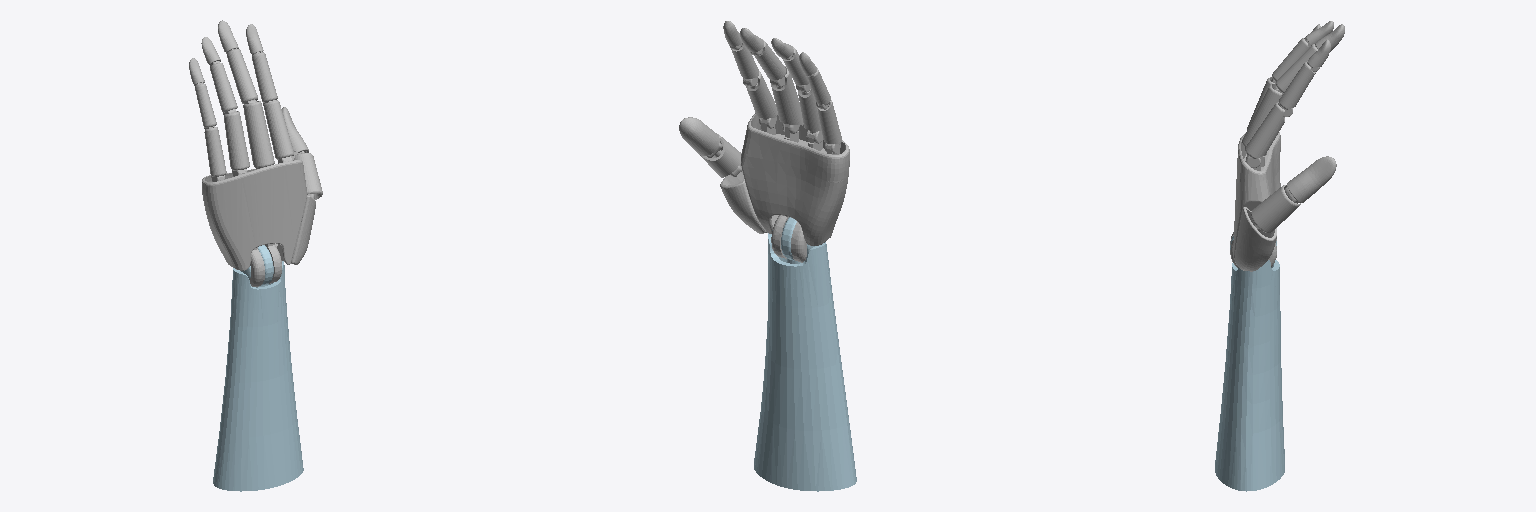
--- Facts derived from the render (not from the file) ---
Views: 3 orthographic renders of the robot side by side, from view 1: azimuth 30°, elevation 25°; view 2: azimuth 150°, elevation 25°; view 3: azimuth 270°, elevation 25°.
Model handbase with 17 links and 16 joints (14 continuous, 2 fixed), rooted at world, posed every joint at zero.
Links seen in each view (by area): view 1: base_link, hands, z1, w1, s1, z2, x1, w2, s2, m1, x2; view 2: base_link, hands, z1, m2, s1, m1, w1, x1, z2, s2; view 3: base_link, hands, m2, m1, s1, s2, z1, z2.
Link boxes in pixels (box(x1,y1,x2,y2)): base_link: box(213, 245, 303, 491); hands: box(202, 157, 315, 286); z1: box(243, 100, 274, 168); w1: box(224, 109, 249, 176); s1: box(264, 100, 293, 163); z2: box(227, 49, 257, 103); x1: box(204, 127, 226, 181); w2: box(210, 61, 237, 114); s2: box(252, 52, 277, 105); m1: box(293, 153, 322, 199); x2: box(195, 83, 216, 129); base_link: box(754, 217, 856, 491); hands: box(720, 113, 849, 262); z1: box(771, 66, 803, 133); m2: box(679, 117, 722, 157); s1: box(745, 71, 777, 128); m1: box(700, 134, 741, 177); w1: box(798, 85, 822, 143); x1: box(817, 100, 841, 153); z2: box(752, 39, 785, 86); s2: box(731, 43, 758, 86); base_link: box(1215, 236, 1284, 491); hands: box(1230, 132, 1280, 271); m2: box(1284, 156, 1336, 203); m1: box(1251, 185, 1300, 232); s1: box(1245, 102, 1284, 167); s2: box(1279, 61, 1315, 116); z1: box(1242, 84, 1281, 146); z2: box(1273, 44, 1317, 97).
Size in the robot's own frame: 0.05 by 0.0445 by 0.1688 metres.
Meshes: 16 distinct files referenced, 16 mesh visuals loaded (16 binary STL).

URDF robot description (handbase):
<?xml version="1.0"?>
<robot
  name="handbase">
<link name="world"/>
  <link
    name="base_link">
    <inertial>
      <origin
        xyz="-0.000799962641470192 -0.000504081590186804 0.0401253166777664"
        rpy="0 0 0" />
      <mass
        value="0.0146454969908164" />
      <inertia
        ixx="9.82327156254974E-06"
        ixy="-3.59727314482683E-09"
        ixz="-1.5220107553225E-07"
        iyy="1.01860202299042E-05"
        iyz="-1.82119548587631E-07"
        izz="1.31533761566139E-06" />
    </inertial>
    <visual>
      <origin
        xyz="0 0 0"
        rpy="0 0 0" />
      <geometry>
        <mesh
          filename="package://handbase/meshes/base_link.STL" />
      </geometry>
      <material
        name="">
        <color
          rgba="0.72156862745098 0.835294117647059 0.886274509803922 1" />
      </material>
    </visual>
    <collision>
      <origin
        xyz="0 0 0"
        rpy="0 0 0" />
      <geometry>
        <mesh
          filename="package://handbase/meshes/base_link.STL" />
      </geometry>
    </collision>
  </link>
<joint name="fixed" type="fixed">
    <parent link="world"/>
    <child link="base_link"/>
  </joint>
  <link
    name="hands">
    <inertial>
      <origin
        xyz="0.000309917534445799 0.017422524571406 0.000982941479633531"
        rpy="0 0 0" />
      <mass
        value="0.00691356184373185" />
      <inertia
        ixx="1.11404015320748E-06"
        ixy="-1.13700860874004E-07"
        ixz="-3.76181638218656E-08"
        iyy="8.08911806454596E-07"
        iyz="1.9480037239203E-08"
        izz="1.69003337579249E-06" />
    </inertial>
    <visual>
      <origin
        xyz="0 0 0"
        rpy="0 0 0" />
      <geometry>
        <mesh
          filename="package://handbase/meshes/hands.STL" />
      </geometry>
      <material
        name="">
        <color
          rgba="0.752941176470588 0.752941176470588 0.752941176470588 1" />
      </material>
    </visual>
    <collision>
      <origin
        xyz="0 0 0"
        rpy="0 0 0" />
      <geometry>
        <mesh
          filename="package://handbase/meshes/hands.STL" />
      </geometry>
    </collision>
  </link>
  <joint
    name="joint"
    type="fixed">
    <origin
      xyz="0.002 -0.00099904 0.084029"
      rpy="1.6145 5.6601E-16 -3.1416" />
    <parent
      link="base_link" />
    <child
      link="hands" />
    <axis
      xyz="0 0 0" />
  </joint>
  <link
    name="m1">
    <inertial>
      <origin
        xyz="-5.8649379198571E-05 0.00710322420830823 -0.000919011788690298"
        rpy="0 0 0" />
      <mass
        value="0.000401149327121621" />
      <inertia
        ixx="1.38181722725387E-08"
        ixy="-8.52877610530251E-13"
        ixz="4.50588118753344E-13"
        iyy="5.34690774735833E-09"
        iyz="-6.7374976271703E-11"
        izz="1.3811414123899E-08" />
    </inertial>
    <visual>
      <origin
        xyz="0 0 0"
        rpy="0 0 0" />
      <geometry>
        <mesh
          filename="package://handbase/meshes/m1.STL" />
      </geometry>
      <material
        name="">
        <color
          rgba="0.752941176470588 0.752941176470588 0.752941176470588 1" />
      </material>
    </visual>
    <collision>
      <origin
        xyz="0 0 0"
        rpy="0 0 0" />
      <geometry>
        <mesh
          filename="package://handbase/meshes/m1.STL" />
      </geometry>
    </collision>
  </link>
  <joint
    name="jm1"
    type="continuous">
    <origin
      xyz="-0.019909 0.020595 0.0035827"
      rpy="0.91749 0.63297 0.86037" />
    <parent
      link="hands" />
    <child
      link="m1" />
    <axis
      xyz="1 0 0" />
  </joint>
  <link
    name="m2">
    <inertial>
      <origin
        xyz="5.65195456901108E-05 0.00724839701452454 0.000909121452704689"
        rpy="0 0 0" />
      <mass
        value="0.000488960076655455" />
      <inertia
        ixx="1.98081450620883E-08"
        ixy="7.08944885240524E-12"
        ixz="1.12344077789193E-12"
        iyy="4.94640906822664E-09"
        iyz="-1.66466340140086E-09"
        izz="2.0130741521641E-08" />
    </inertial>
    <visual>
      <origin
        xyz="0 0 0"
        rpy="0 0 0" />
      <geometry>
        <mesh
          filename="package://handbase/meshes/m2.STL" />
      </geometry>
      <material
        name="">
        <color
          rgba="0.752941176470588 0.752941176470588 0.752941176470588 1" />
      </material>
    </visual>
    <collision>
      <origin
        xyz="0 0 0"
        rpy="0 0 0" />
      <geometry>
        <mesh
          filename="package://handbase/meshes/m2.STL" />
      </geometry>
    </collision>
  </link>
  <joint
    name="jm2"
    type="continuous">
    <origin
      xyz="0 0.015246188580954 0"
      rpy="2.89378326977912 -1.55431223447522E-15 3.14159265358979" />
    <parent
      link="m1" />
    <child
      link="m2" />
    <axis
      xyz="-1 0 0" />
  </joint>
  <link
    name="s1">
    <inertial>
      <origin
        xyz="-0.00362250596121665 0.0103105939733346 -0.000777301539950842"
        rpy="0 0 0" />
      <mass
        value="0.000413607709580733" />
      <inertia
        ixx="2.00324911029648E-08"
        ixy="-3.85377080846493E-12"
        ixz="-1.64298202120837E-13"
        iyy="2.41142507211235E-09"
        iyz="3.99727221892691E-10"
        izz="1.99550742354363E-08" />
    </inertial>
    <visual>
      <origin
        xyz="0 0 0"
        rpy="0 0 0" />
      <geometry>
        <mesh
          filename="package://handbase/meshes/s1.STL" />
      </geometry>
      <material
        name="">
        <color
          rgba="0.752941176470588 0.752941176470588 0.752941176470588 1" />
      </material>
    </visual>
    <collision>
      <origin
        xyz="0 0 0"
        rpy="0 0 0" />
      <geometry>
        <mesh
          filename="package://handbase/meshes/s1.STL" />
      </geometry>
    </collision>
  </link>
  <joint
    name="js1"
    type="continuous">
    <origin
      xyz="-0.0053763604724873 0.0381685968167444 -0.000686874956817977"
      rpy="0.483425192479908 -4.36731432883031E-17 -4.41481972286045E-17" />
    <parent
      link="hands" />
    <child
      link="s1" />
    <axis
      xyz="-1 0 0" />
  </joint>
  <link
    name="s2">
    <inertial>
      <origin
        xyz="-0.00297718776118376 0.0081184352546796 -0.000587272485037836"
        rpy="0 0 0" />
      <mass
        value="0.000228155468648981" />
      <inertia
        ixx="8.67740401526557E-09"
        ixy="-1.1639609043462E-14"
        ixz="-6.96799352603514E-15"
        iyy="1.12692478231675E-09"
        iyz="1.59911377176696E-10"
        izz="8.65077493517443E-09" />
    </inertial>
    <visual>
      <origin
        xyz="0 0 0"
        rpy="0 0 0" />
      <geometry>
        <mesh
          filename="package://handbase/meshes/s2.STL" />
      </geometry>
      <material
        name="">
        <color
          rgba="0.752941176470588 0.752941176470588 0.752941176470588 1" />
      </material>
    </visual>
    <collision>
      <origin
        xyz="0 0 0"
        rpy="0 0 0" />
      <geometry>
        <mesh
          filename="package://handbase/meshes/s2.STL" />
      </geometry>
    </collision>
  </link>
  <joint
    name="js2"
    type="continuous">
    <origin
      xyz="-0.000646446339594647 0.022 0"
      rpy="-0.000904762343968677 8.52736256764881E-20 2.915228409034E-19" />
    <parent
      link="s1" />
    <child
      link="s2" />
    <axis
      xyz="-1 0 0" />
  </joint>
  <link
    name="s3">
    <inertial>
      <origin
        xyz="0.00261864800743888 0.00379639831504887 0.000602596184251541"
        rpy="0 0 0" />
      <mass
        value="9.29888945554876E-05" />
      <inertia
        ixx="1.18543636074523E-09"
        ixy="-1.42256924417356E-14"
        ixz="2.34606451591953E-14"
        iyy="2.8981751106321E-10"
        iyz="-1.16002009740691E-10"
        izz="1.18558313130353E-09" />
    </inertial>
    <visual>
      <origin
        xyz="0 0 0"
        rpy="0 0 0" />
      <geometry>
        <mesh
          filename="package://handbase/meshes/s3.STL" />
      </geometry>
      <material
        name="">
        <color
          rgba="0.752941176470588 0.752941176470588 0.752941176470588 1" />
      </material>
    </visual>
    <collision>
      <origin
        xyz="0 0 0"
        rpy="0 0 0" />
      <geometry>
        <mesh
          filename="package://handbase/meshes/s3.STL" />
      </geometry>
    </collision>
  </link>
  <joint
    name="js3"
    type="continuous">
    <origin
      xyz="-0.000358440047254212 0.0188062198406883 3.84373911384919E-05"
      rpy="2.99455017046234 -3.21973916394588E-16 -3.14159265358979" />
    <parent
      link="s2" />
    <child
      link="s3" />
    <axis
      xyz="1 0 0" />
  </joint>
  <link
    name="z1">
    <inertial>
      <origin
        xyz="1.53713124234288E-06 0.00995104440103917 -0.00084627919259484"
        rpy="0 0 0" />
      <mass
        value="0.000449445106103916" />
      <inertia
        ixx="2.4260381319338E-08"
        ixy="-2.19991934607478E-12"
        ixz="-1.80325350613195E-12"
        iyy="3.65797225058715E-09"
        iyz="3.28146380421941E-10"
        izz="2.41457082087587E-08" />
    </inertial>
    <visual>
      <origin
        xyz="0 0 0"
        rpy="0 0 0" />
      <geometry>
        <mesh
          filename="package://handbase/meshes/z1.STL" />
      </geometry>
      <material
        name="">
        <color
          rgba="0.752941176470588 0.752941176470588 0.752941176470588 1" />
      </material>
    </visual>
    <collision>
      <origin
        xyz="0 0 0"
        rpy="0 0 0" />
      <geometry>
        <mesh
          filename="package://handbase/meshes/z1.STL" />
      </geometry>
    </collision>
  </link>
  <joint
    name="jz1"
    type="continuous">
    <origin
      xyz="0 0.039107929378446 0"
      rpy="0.354275765157499 -4.14321254827933E-17 -1.53249805301545E-17" />
    <parent
      link="hands" />
    <child
      link="z1" />
    <axis
      xyz="-1 0 0" />
  </joint>
  <link
    name="z2">
    <inertial>
      <origin
        xyz="-1.73129656850314E-09 0.00980849552545076 -0.000574753656051509"
        rpy="0 0 0" />
      <mass
        value="0.000277333093207588" />
      <inertia
        ixx="1.41839859979758E-08"
        ixy="1.14762503460668E-14"
        ixz="-4.2685353628227E-16"
        iyy="1.55874812539304E-09"
        iyz="2.92692430199662E-10"
        izz="1.41236297639242E-08" />
    </inertial>
    <visual>
      <origin
        xyz="0 0 0"
        rpy="0 0 0" />
      <geometry>
        <mesh
          filename="package://handbase/meshes/z2.STL" />
      </geometry>
      <material
        name="">
        <color
          rgba="0.752941176470588 0.752941176470588 0.752941176470588 1" />
      </material>
    </visual>
    <collision>
      <origin
        xyz="0 0 0"
        rpy="0 0 0" />
      <geometry>
        <mesh
          filename="package://handbase/meshes/z2.STL" />
      </geometry>
    </collision>
  </link>
  <joint
    name="jz2"
    type="continuous">
    <origin
      xyz="0 0.0212461885809539 0"
      rpy="0.303966404007952 -3.01505045140602E-17 -2.3315147154823E-17" />
    <parent
      link="z1" />
    <child
      link="z2" />
    <axis
      xyz="-1 0 0" />
  </joint>
  <link
    name="z3">
    <inertial>
      <origin
        xyz="-1.13803270570831E-07 0.00425191782457193 0.00062980021777824"
        rpy="0 0 0" />
      <mass
        value="0.000129333254932012" />
      <inertia
        ixx="2.19652236283476E-09"
        ixy="-8.23482450816564E-15"
        ixz="5.13652505578956E-14"
        iyy="5.03050156308885E-10"
        iyz="-2.10981967817644E-10"
        izz="2.18067890067006E-09" />
    </inertial>
    <visual>
      <origin
        xyz="0 0 0"
        rpy="0 0 0" />
      <geometry>
        <mesh
          filename="package://handbase/meshes/z3.STL" />
      </geometry>
      <material
        name="">
        <color
          rgba="0.752941176470588 0.752941176470588 0.752941176470588 1" />
      </material>
    </visual>
    <collision>
      <origin
        xyz="0 0 0"
        rpy="0 0 0" />
      <geometry>
        <mesh
          filename="package://handbase/meshes/z3.STL" />
      </geometry>
    </collision>
  </link>
  <joint
    name="jz3"
    type="continuous">
    <origin
      xyz="0 0.0213660868281401 3.84373911389464E-05"
      rpy="2.9635858538662 -4.24471036603833E-16 -3.14159265358979" />
    <parent
      link="z2" />
    <child
      link="z3" />
    <axis
      xyz="1 0 0" />
  </joint>
  <link
    name="w1">
    <inertial>
      <origin
        xyz="0.00457750005083639 0.0102749702814112 0.00068894333079733"
        rpy="0 0 0" />
      <mass
        value="0.000413608128697599" />
      <inertia
        ixx="2.00325505379359E-08"
        ixy="-3.8702603924245E-12"
        ixz="-1.68757070087102E-13"
        iyy="2.41140340334988E-09"
        iyz="3.99712927416352E-10"
        izz="1.9955149691033E-08" />
    </inertial>
    <visual>
      <origin
        xyz="0 0 0"
        rpy="0 0 0" />
      <geometry>
        <mesh
          filename="package://handbase/meshes/w1.STL" />
      </geometry>
      <material
        name="">
        <color
          rgba="0.752941176470588 0.752941176470588 0.752941176470588 1" />
      </material>
    </visual>
    <collision>
      <origin
        xyz="0 0 0"
        rpy="0 0 0" />
      <geometry>
        <mesh
          filename="package://handbase/meshes/w1.STL" />
      </geometry>
    </collision>
  </link>
  <joint
    name="jw1"
    type="continuous">
    <origin
      xyz="0.0046236395275127 0.0381685968167444 -0.000686874956817977"
      rpy="0.286350303367985 -4.10172514557506E-17 1.19652995252588E-17" />
    <parent
      link="hands" />
    <child
      link="w1" />
    <axis
      xyz="-1 0 0" />
  </joint>
  <link
    name="w2">
    <inertial>
      <origin
        xyz="0.00297719836900487 0.00811843492934312 -0.000587272330918688"
        rpy="0 0 0" />
      <mass
        value="0.000228155624371926" />
      <inertia
        ixx="8.67740916932328E-09"
        ixy="-1.11787036470917E-14"
        ixz="-7.05853179712802E-15"
        iyy="1.12692799432082E-09"
        iyz="1.59911691093618E-10"
        izz="8.65077908229553E-09" />
    </inertial>
    <visual>
      <origin
        xyz="0 0 0"
        rpy="0 0 0" />
      <geometry>
        <mesh
          filename="package://handbase/meshes/w2.STL" />
      </geometry>
      <material
        name="">
        <color
          rgba="0.752941176470588 0.752941176470588 0.752941176470588 1" />
      </material>
    </visual>
    <collision>
      <origin
        xyz="0 0 0"
        rpy="0 0 0" />
      <geometry>
        <mesh
          filename="package://handbase/meshes/w2.STL" />
      </geometry>
    </collision>
  </link>
  <joint
    name="jw2"
    type="continuous">
    <origin
      xyz="0.00159916728456922 0.0219643442428143 0.00146624561542037"
      rpy="0.294406510076238 -4.24938625139124E-17 -5.0750357200336E-18" />
    <parent
      link="w1" />
    <child
      link="w2" />
    <axis
      xyz="-1 0 0" />
  </joint>
  <link
    name="w3">
    <inertial>
      <origin
        xyz="-0.00263004201038285 0.00380034368789142 0.000601469612295007"
        rpy="0 0 0" />
      <mass
        value="9.30864008348842E-05" />
      <inertia
        ixx="1.18672980323084E-09"
        ixy="-2.57152892983099E-14"
        ixz="1.7199756539844E-14"
        iyy="2.89549181898131E-10"
        iyz="-1.15651448888996E-10"
        izz="1.18716821450343E-09" />
    </inertial>
    <visual>
      <origin
        xyz="0 0 0"
        rpy="0 0 0" />
      <geometry>
        <mesh
          filename="package://handbase/meshes/w3.STL" />
      </geometry>
      <material
        name="">
        <color
          rgba="0.752941176470588 0.752941176470588 0.752941176470588 1" />
      </material>
    </visual>
    <collision>
      <origin
        xyz="0 0 0"
        rpy="0 0 0" />
      <geometry>
        <mesh
          filename="package://handbase/meshes/w3.STL" />
      </geometry>
    </collision>
  </link>
  <joint
    name="jw3"
    type="continuous">
    <origin
      xyz="0.000347244107506806 0.0188062198406883 3.84373911390019E-05"
      rpy="2.80608728098415 -3.80707150502976E-16 -3.14159265358979" />
    <parent
      link="w2" />
    <child
      link="w3" />
    <axis
      xyz="1 0 0" />
  </joint>
  <link
    name="x1">
    <inertial>
      <origin
        xyz="0.00297719913157596 0.00811843474800698 -0.000587272428575425"
        rpy="0 0 0" />
      <mass
        value="0.000228155215261747" />
      <inertia
        ixx="8.67739432484198E-09"
        ixy="-1.25220281614738E-14"
        ixz="-6.91300756121795E-15"
        iyy="1.12691934015555E-09"
        iyz="1.59912781953615E-10"
        izz="8.65076676399291E-09" />
    </inertial>
    <visual>
      <origin
        xyz="0 0 0"
        rpy="0 0 0" />
      <geometry>
        <mesh
          filename="package://handbase/meshes/x1.STL" />
      </geometry>
      <material
        name="">
        <color
          rgba="0.752941176470588 0.752941176470588 0.752941176470588 1" />
      </material>
    </visual>
    <collision>
      <origin
        xyz="0 0 0"
        rpy="0 0 0" />
      <geometry>
        <mesh
          filename="package://handbase/meshes/x1.STL" />
      </geometry>
    </collision>
  </link>
  <joint
    name="jx1"
    type="continuous">
    <origin
      xyz="0.0139728068120819 0.0367202474064486 0.00298392986917286"
      rpy="0.29656837593659 -4.18431123848793E-17 9.59049265598604E-18" />
    <parent
      link="hands" />
    <child
      link="x1" />
    <axis
      xyz="-1 0 0" />
  </joint>
  <link
    name="x2">
    <inertial>
      <origin
        xyz="0.0029771912019035 0.00673508368380906 -0.000548942260001257"
        rpy="0 0 0" />
      <mass
        value="0.000168899784139282" />
      <inertia
        ixx="4.66365445871819E-09"
        ixy="-1.26521095497523E-15"
        ixz="-1.76140383365743E-16"
        iyy="5.58087152238606E-10"
        iyz="8.52710203503964E-11"
        izz="4.6384985735893E-09" />
    </inertial>
    <visual>
      <origin
        xyz="0 0 0"
        rpy="0 0 0" />
      <geometry>
        <mesh
          filename="package://handbase/meshes/x2.STL" />
      </geometry>
      <material
        name="">
        <color
          rgba="0.752941176470588 0.752941176470588 0.752941176470588 1" />
      </material>
    </visual>
    <collision>
      <origin
        xyz="0 0 0"
        rpy="0 0 0" />
      <geometry>
        <mesh
          filename="package://handbase/meshes/x2.STL" />
      </geometry>
    </collision>
  </link>
  <joint
    name="jx2"
    type="continuous">
    <origin
      xyz="0 0.0188062198406883 3.8437391138962E-05"
      rpy="0.173431026505967 -1.6951359103647E-17 -4.64213102513351E-17" />
    <parent
      link="x1" />
    <child
      link="x2" />
    <axis
      xyz="-1 0 0" />
  </joint>
  <link
    name="x3">
    <inertial>
      <origin
        xyz="-0.00233783135577613 0.0036206567537094 0.000591494974870103"
        rpy="0 0 0" />
      <mass
        value="6.2567903955084E-05" />
      <inertia
        ixx="6.05381627907182E-10"
        ixy="-9.55016752978575E-15"
        ixz="1.28332981384005E-14"
        iyy="1.55246239510321E-10"
        iyz="-5.79126249590553E-11"
        izz="6.10158603614631E-10" />
    </inertial>
    <visual>
      <origin
        xyz="0 0 0"
        rpy="0 0 0" />
      <geometry>
        <mesh
          filename="package://handbase/meshes/x3.STL" />
      </geometry>
      <material
        name="">
        <color
          rgba="0.752941176470588 0.752941176470588 0.752941176470588 1" />
      </material>
    </visual>
    <collision>
      <origin
        xyz="0 0 0"
        rpy="0 0 0" />
      <geometry>
        <mesh
          filename="package://handbase/meshes/x3.STL" />
      </geometry>
    </collision>
  </link>
  <joint
    name="jx3"
    type="continuous">
    <origin
      xyz="0.000639460671996946 0.0160228511028668 0"
      rpy="2.9507376171861 -3.14252618799167E-16 -3.14159265358979" />
    <parent
      link="x2" />
    <child
      link="x3" />
    <axis
      xyz="1 0 0" />
  </joint>
 <transmission name="tran0">
    <type>transmission_interface/SimpleTransmission</type>
    <joint name="jm1">
      <hardwareInterface>PositionJointInterface</hardwareInterface>
    </joint>
    <actuator name="motor0">
      <hardwareInterface>PositionJointInterface</hardwareInterface>
      <mechanicalReduction>1</mechanicalReduction>
    </actuator>
  </transmission>
  <transmission name="tran1">
    <type>transmission_interface/SimpleTransmission</type>
    <joint name="jm2">
      <hardwareInterface>PositionJointInterface</hardwareInterface>
    </joint>
    <actuator name="motor1">
      <hardwareInterface>PositionJointInterface</hardwareInterface>
      <mechanicalReduction>1</mechanicalReduction>
    </actuator>
  </transmission>
  <transmission name="tran2">
    <type>transmission_interface/SimpleTransmission</type>
    <joint name="js1">
      <hardwareInterface>PositionJointInterface</hardwareInterface>
    </joint>
    <actuator name="motor2">
      <hardwareInterface>PositionJointInterface</hardwareInterface>
      <mechanicalReduction>1</mechanicalReduction>
    </actuator>
  </transmission>
  <transmission name="tran3">
    <type>transmission_interface/SimpleTransmission</type>
    <joint name="js2">
      <hardwareInterface>PositionJointInterface</hardwareInterface>
    </joint>
    <actuator name="motor4">
      <hardwareInterface>PositionJointInterface</hardwareInterface>
      <mechanicalReduction>1</mechanicalReduction>
    </actuator>
  </transmission>
<transmission name="tran">
    <type>transmission_interface/SimpleTransmission</type>
    <joint name="js3">
      <hardwareInterface>PositionJointInterface</hardwareInterface>
    </joint>
    <actuator name="motor4">
      <hardwareInterface>PositionJointInterface</hardwareInterface>
      <mechanicalReduction>1</mechanicalReduction>
    </actuator>
  </transmission>
<transmission name="tran5">
    <type>transmission_interface/SimpleTransmission</type>
    <joint name="jz1">
      <hardwareInterface>PositionJointInterface</hardwareInterface>
    </joint>
    <actuator name="motor5">
      <hardwareInterface>PositionJointInterface</hardwareInterface>
      <mechanicalReduction>1</mechanicalReduction>
    </actuator>
  </transmission>
  <transmission name="tran6">
    <type>transmission_interface/SimpleTransmission</type>
    <joint name="jz2">
      <hardwareInterface>PositionJointInterface</hardwareInterface>
    </joint>
    <actuator name="motor6">
      <hardwareInterface>PositionJointInterface</hardwareInterface>
      <mechanicalReduction>1</mechanicalReduction>
    </actuator>
  </transmission>
  <transmission name="tran7">
    <type>transmission_interface/SimpleTransmission</type>
    <joint name="jz3">
      <hardwareInterface>PositionJointInterface</hardwareInterface>
    </joint>
    <actuator name="motor7">
      <hardwareInterface>PositionJointInterface</hardwareInterface>
      <mechanicalReduction>1</mechanicalReduction>
    </actuator>
  </transmission>
  <transmission name="tran8">
    <type>transmission_interface/SimpleTransmission</type>
    <joint name="jw1">
      <hardwareInterface>PositionJointInterface</hardwareInterface>
    </joint>
    <actuator name="motor8">
      <hardwareInterface>PositionJointInterface</hardwareInterface>
      <mechanicalReduction>1</mechanicalReduction>
    </actuator>
  </transmission>
<transmission name="tran9">
    <type>transmission_interface/SimpleTransmission</type>
    <joint name="jw2">
      <hardwareInterface>PositionJointInterface</hardwareInterface>
    </joint>
    <actuator name="motor9">
      <hardwareInterface>PositionJointInterface</hardwareInterface>
      <mechanicalReduction>1</mechanicalReduction>
    </actuator>
  </transmission>
<transmission name="tran10">
    <type>transmission_interface/SimpleTransmission</type>
    <joint name="jw3">
      <hardwareInterface>PositionJointInterface</hardwareInterface>
    </joint>
    <actuator name="motor10">
      <hardwareInterface>PositionJointInterface</hardwareInterface>
      <mechanicalReduction>1</mechanicalReduction>
    </actuator>
  </transmission>
  <transmission name="tran11">
    <type>transmission_interface/SimpleTransmission</type>
    <joint name="jx1">
      <hardwareInterface>PositionJointInterface</hardwareInterface>
    </joint>
    <actuator name="motor11">
      <hardwareInterface>PositionJointInterface</hardwareInterface>
      <mechanicalReduction>1</mechanicalReduction>
    </actuator>
  </transmission>
  <transmission name="tran12">
    <type>transmission_interface/SimpleTransmission</type>
    <joint name="jx2">
      <hardwareInterface>PositionJointInterface</hardwareInterface>
    </joint>
    <actuator name="motor12">
      <hardwareInterface>PositionJointInterface</hardwareInterface>
      <mechanicalReduction>1</mechanicalReduction>
    </actuator>
  </transmission>
<transmission name="tran13">
    <type>transmission_interface/SimpleTransmission</type>
    <joint name="jx3">
      <hardwareInterface>PositionJointInterface</hardwareInterface>
    </joint>
    <actuator name="motor13">
      <hardwareInterface>PositionJointInterface</hardwareInterface>
      <mechanicalReduction>1</mechanicalReduction>
    </actuator>
  </transmission>
   <gazebo>
    <plugin name="control" filename="libgazebo_ros_control.so"/>
  </gazebo>
</robot>
